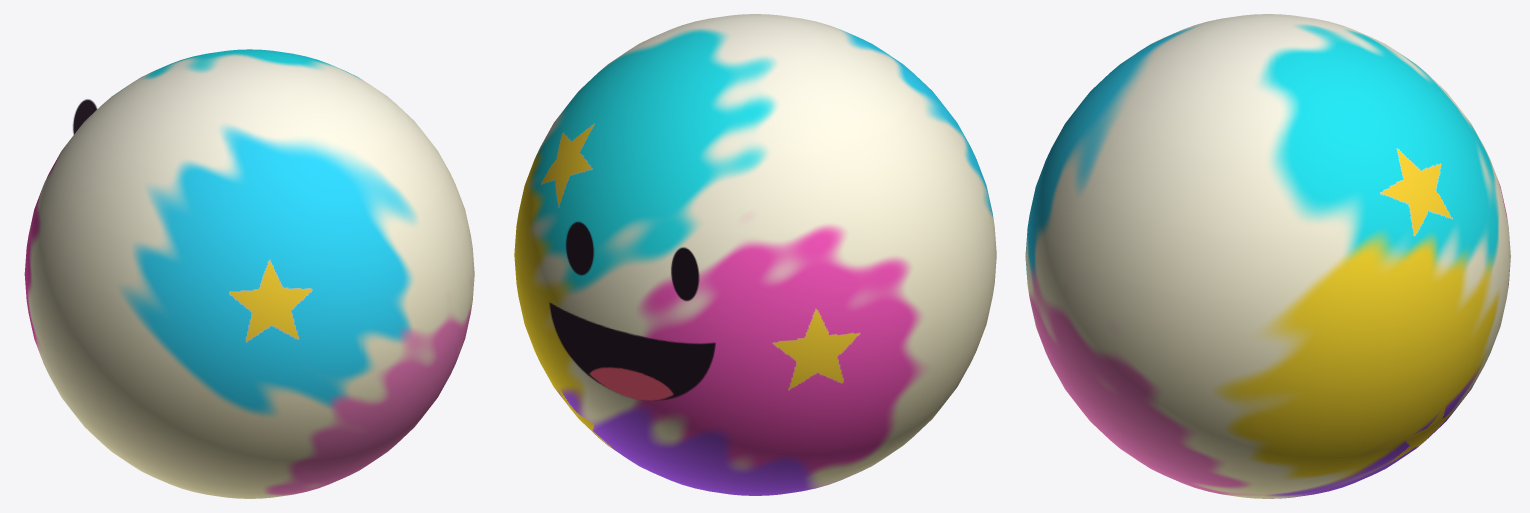
Rendered from Verity_L100_Rainbow.glb.
The picture shows the model from 3 angles, left to right: view 1: azimuth 30°, elevation 25°; view 2: azimuth 150°, elevation 25°; view 3: azimuth 270°, elevation 25°; orthographic projection. The views are drawn at different scales.
Parts seen in each view (by area): view 1: Body; view 2: Body, FacePreview; view 3: Body.
Part boxes in pixels (bbox=[...]): Body: bbox=[24, 49, 474, 498]; Body: bbox=[514, 14, 996, 495]; FacePreview: bbox=[549, 221, 715, 400]; Body: bbox=[1025, 14, 1510, 498].
Bounding box in the file's own units: 1.7 × 1.7 × 1.72.
2 materials, 2 textured.
